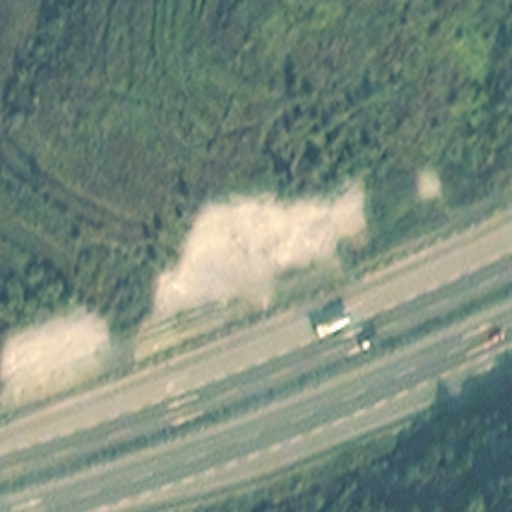landslide: (155, 185, 361, 309), (5, 312, 108, 371)
